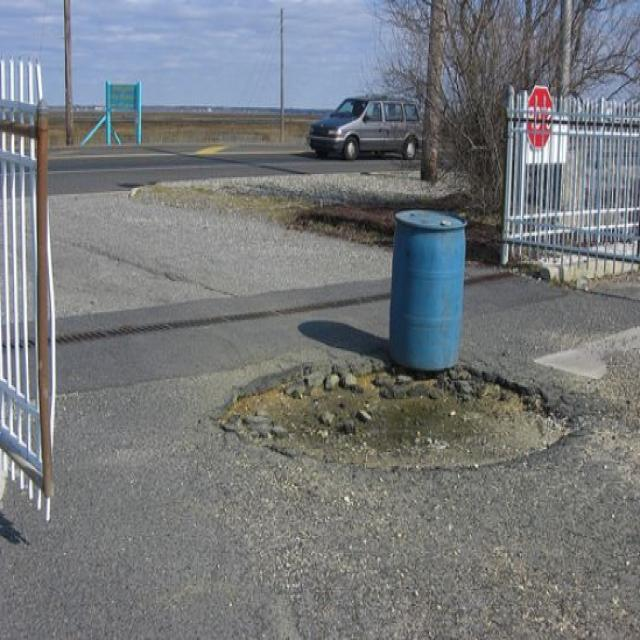Pothole: (215, 366, 584, 463)
